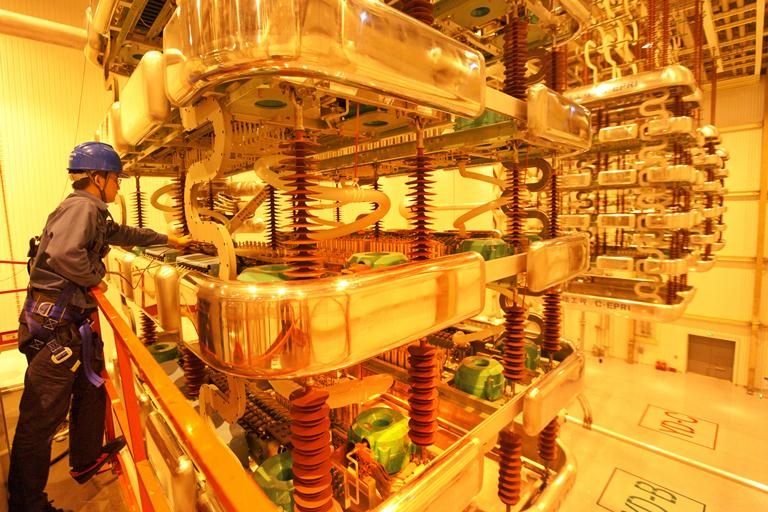blue: (63, 139, 123, 204)
